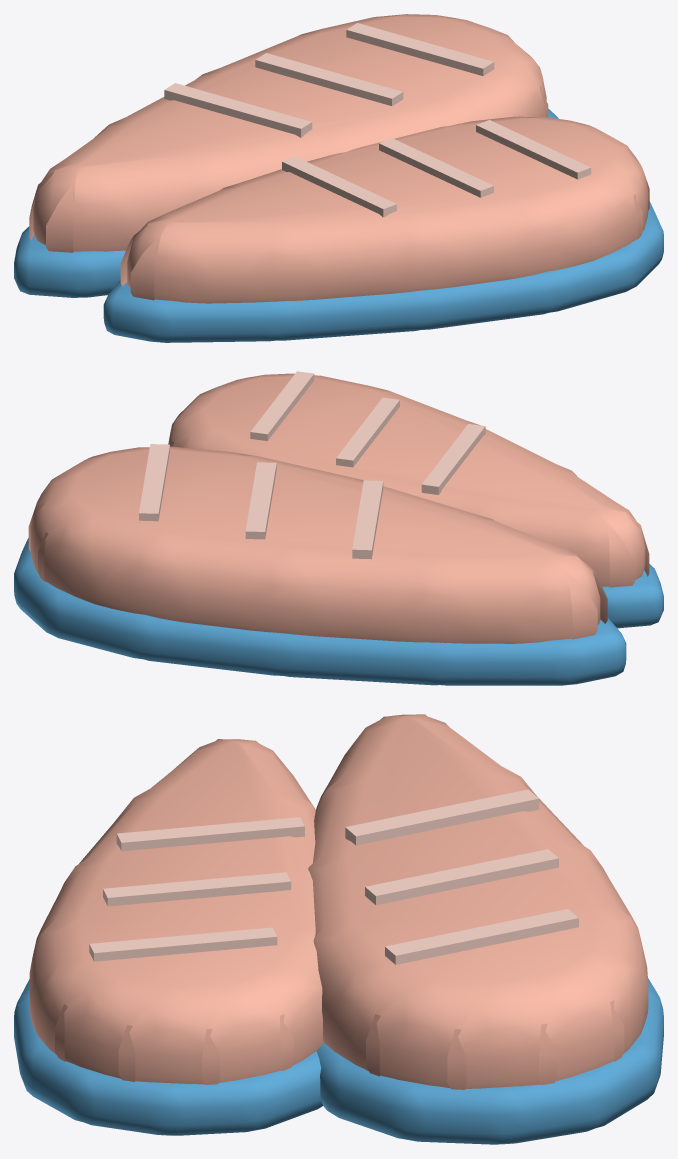
Rendered from fish_chopped.glb.
3 renders of one model, top to bottom at view 1: azimuth 30°, elevation 25°; view 2: azimuth 150°, elevation 25°; view 3: azimuth 270°, elevation 25°, orthographic. The views are drawn at different scales.
Parts seen in each view (by area): view 1: fish_chopped; view 2: fish_chopped; view 3: fish_chopped.
Part boxes in pixels (x1=…): fish_chopped: x1=14, y1=14, x2=663, y2=342; fish_chopped: x1=14, y1=371, x2=663, y2=685; fish_chopped: x1=14, y1=714, x2=663, y2=1144.
Size of the model in its own units: 0.3903 by 0.0804 by 0.3189.
